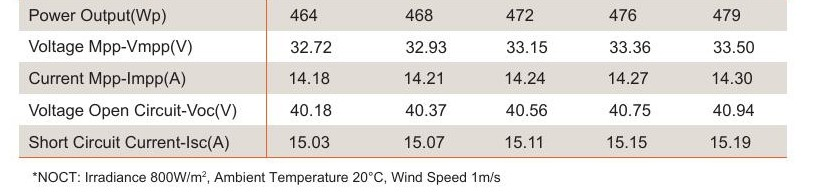table: (10, 1, 803, 169)
table column: (23, 2, 261, 159), (382, 1, 466, 165), (276, 2, 353, 163), (598, 2, 668, 167), (700, 1, 771, 162), (494, 2, 562, 161)
table row: (16, 31, 796, 60), (14, 64, 797, 91), (15, 130, 798, 156), (15, 97, 797, 122), (14, 3, 794, 27)
